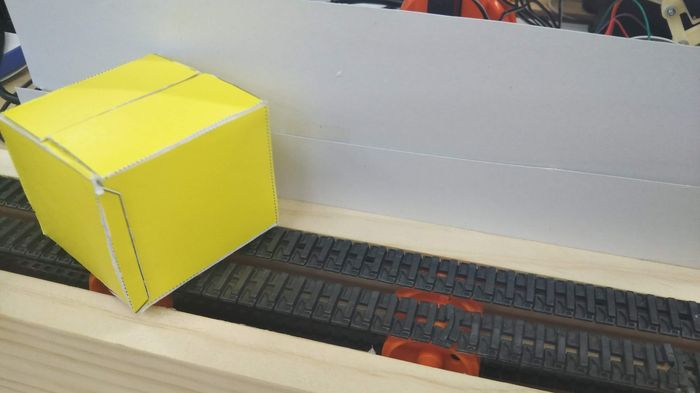box4: (4, 48, 286, 316)
